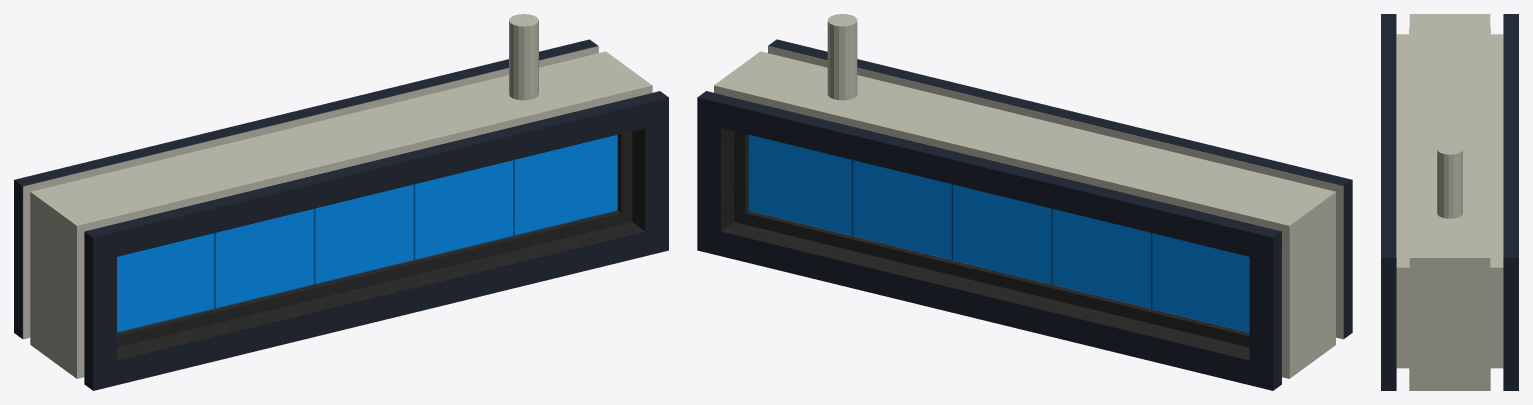
File: lillysign.fbx
3 views of the same model, side by side, from view 1: azimuth 30°, elevation 25°; view 2: azimuth 150°, elevation 25°; view 3: azimuth 270°, elevation 25° (orthographic). The views are drawn at different scales.
Visible parts, largest first — view 1: LillyDisplay; view 2: LillyDisplay; view 3: LillyDisplay.
Part boxes in pixels (left/top/right/bottom): LillyDisplay: left=14, top=14, right=668, bottom=390; LillyDisplay: left=697, top=14, right=1352, bottom=390; LillyDisplay: left=1381, top=14, right=1518, bottom=390.
Bounding box in the file's own units: 105 × 166 × 441.
1 material, 1 textured.
